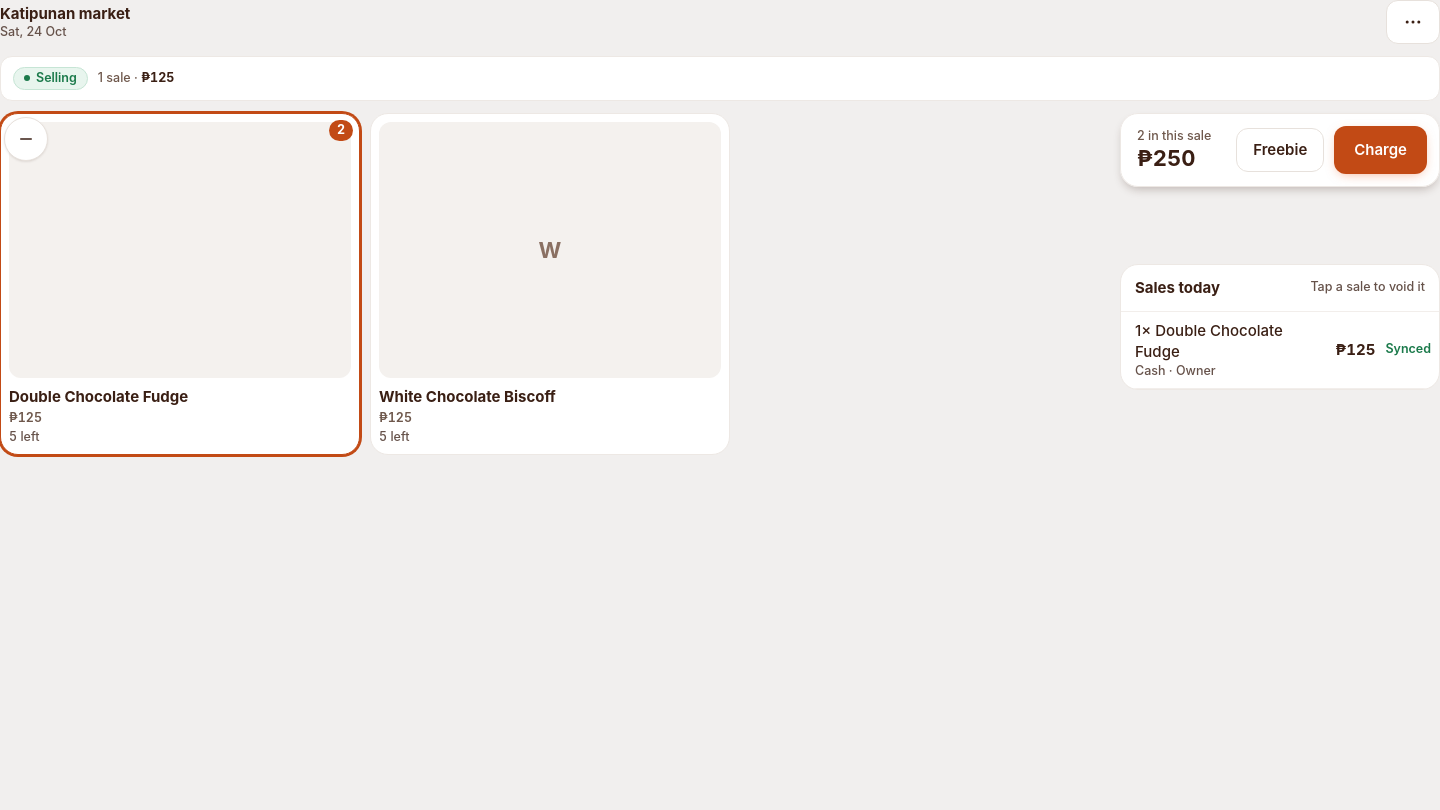
Test: the consolidated till calls the ported handlers › a helper, or a phone with no signal, gets no Home and no Add cookies
The width and height of the screenshot is (1440, 810).
Click the button named "Till menu". click: coordinates (1413, 22)
box: [1386,0,1439,44]
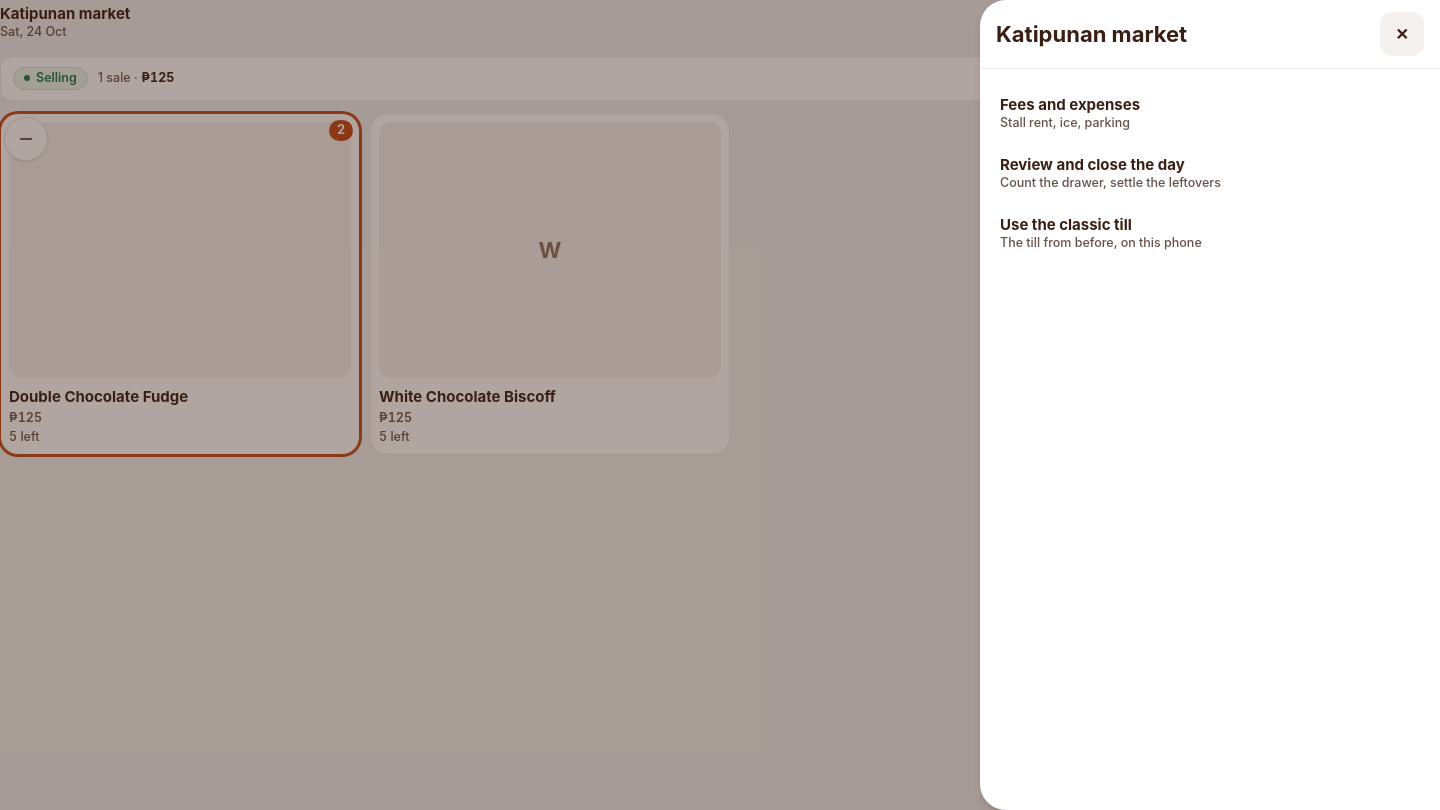
Result: the button "Review and close the day" is shown at [996,145,1424,201]
